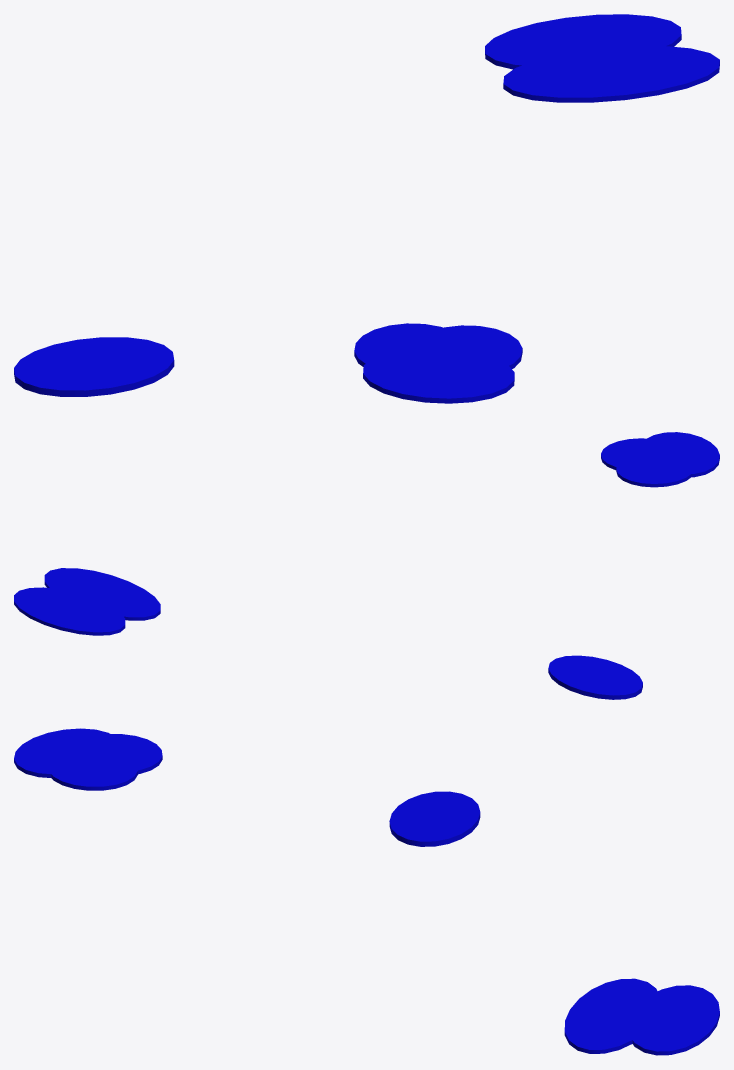
The model's file is Water M.fbx.
3 renders of one model, top to bottom at view 1: azimuth 30°, elevation 25°; view 2: azimuth 150°, elevation 25°; view 3: azimuth 270°, elevation 25°, orthographic. The views are drawn at different scales.
Visible parts, largest first — view 1: Water, Top_Water, Low_Water; view 2: Water, Top_Water, Low_Water; view 3: Water, Top_Water, Low_Water.
Part boxes in pixels (bbox=[...]): Water: bbox=[485, 14, 719, 102]; Top_Water: bbox=[354, 323, 522, 403]; Low_Water: bbox=[14, 337, 174, 396]; Water: bbox=[14, 568, 160, 635]; Top_Water: bbox=[601, 432, 719, 487]; Low_Water: bbox=[548, 655, 642, 699]; Water: bbox=[564, 978, 719, 1055]; Top_Water: bbox=[14, 728, 162, 790]; Low_Water: bbox=[389, 791, 480, 846].
Size of the model in its own units: 40.48 by 7.05 by 39.74.
